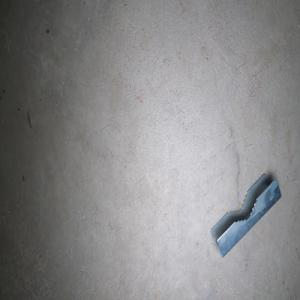ClampPart: (210, 172, 282, 259)
